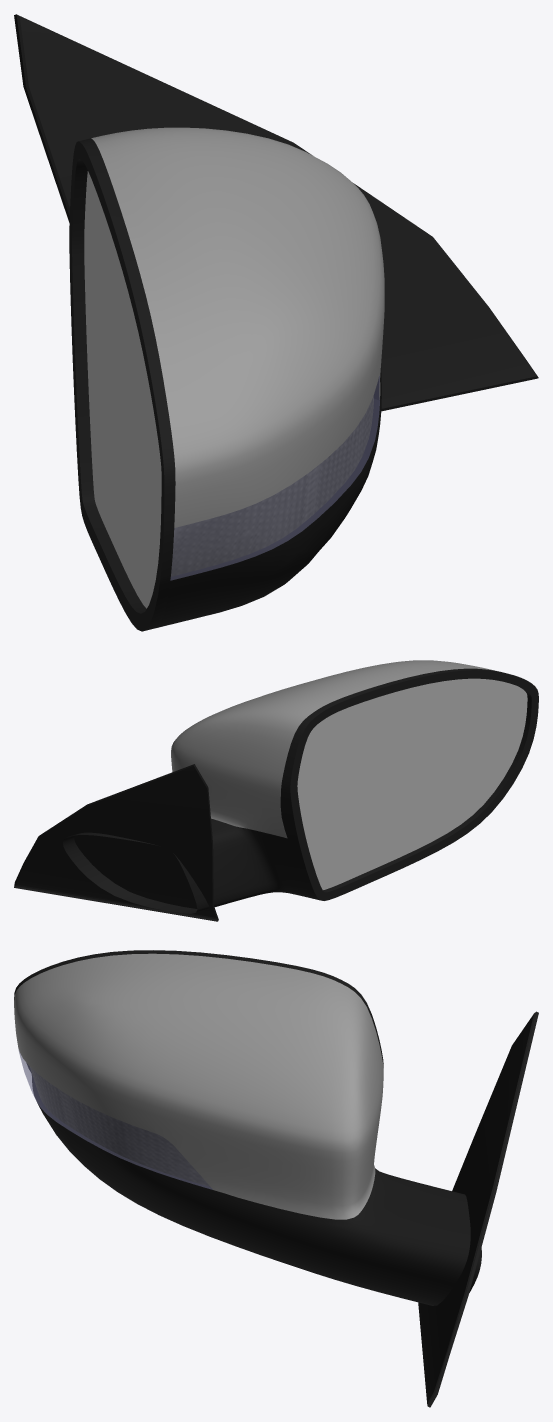
3 renders of one model, top to bottom at view 1: azimuth 30°, elevation 25°; view 2: azimuth 150°, elevation 25°; view 3: azimuth 270°, elevation 25°, orthographic. The views are drawn at different scales.
Visible parts, largest first — view 1: X6166_281I_R_1_DaS_X6166_281I_R, X6166_281I_R_X6166_281I_R_3_D, X6166_281I_R_X6166_281I_R_4_DTaSI, X6166_281I_R_X6166_281I_R_5_DTaSI, X6166_281I_R_X6166_281I_R_2_N; view 2: X6166_281I_R_X6166_281I_R_3_D, X6166_281I_R_X6166_281I_R_4_DTaSI, X6166_281I_R_1_DaS_X6166_281I_R; view 3: X6166_281I_R_1_DaS_X6166_281I_R, X6166_281I_R_X6166_281I_R_3_D, X6166_281I_R_X6166_281I_R_5_DTaSI, X6166_281I_R_X6166_281I_R_2_N.
Boxes of the visible parts, bbox=[...] form: X6166_281I_R_1_DaS_X6166_281I_R: bbox=[91, 127, 384, 527]; X6166_281I_R_X6166_281I_R_3_D: bbox=[14, 14, 538, 631]; X6166_281I_R_X6166_281I_R_4_DTaSI: bbox=[84, 171, 161, 608]; X6166_281I_R_X6166_281I_R_5_DTaSI: bbox=[170, 376, 379, 580]; X6166_281I_R_X6166_281I_R_2_N: bbox=[171, 396, 373, 576]; X6166_281I_R_X6166_281I_R_3_D: bbox=[14, 668, 538, 921]; X6166_281I_R_X6166_281I_R_4_DTaSI: bbox=[297, 678, 527, 889]; X6166_281I_R_1_DaS_X6166_281I_R: bbox=[171, 660, 497, 838]; X6166_281I_R_1_DaS_X6166_281I_R: bbox=[14, 953, 383, 1219]; X6166_281I_R_X6166_281I_R_3_D: bbox=[14, 950, 538, 1407]; X6166_281I_R_X6166_281I_R_5_DTaSI: bbox=[18, 1049, 212, 1189]; X6166_281I_R_X6166_281I_R_2_N: bbox=[30, 1067, 210, 1186].
Bounding box in the file's own units: 28.98 × 16.9 × 29.6.
